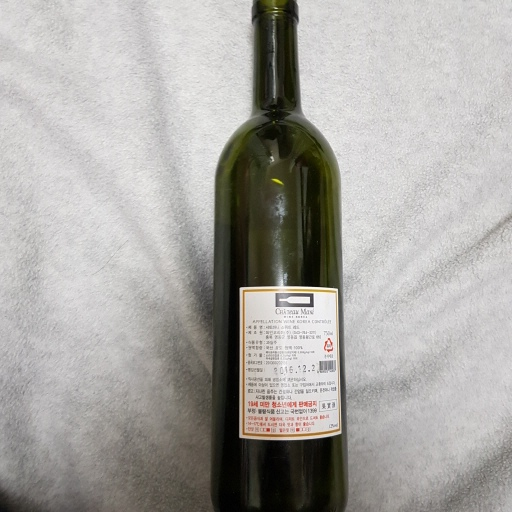Glass_2: (191, 1, 358, 512)
